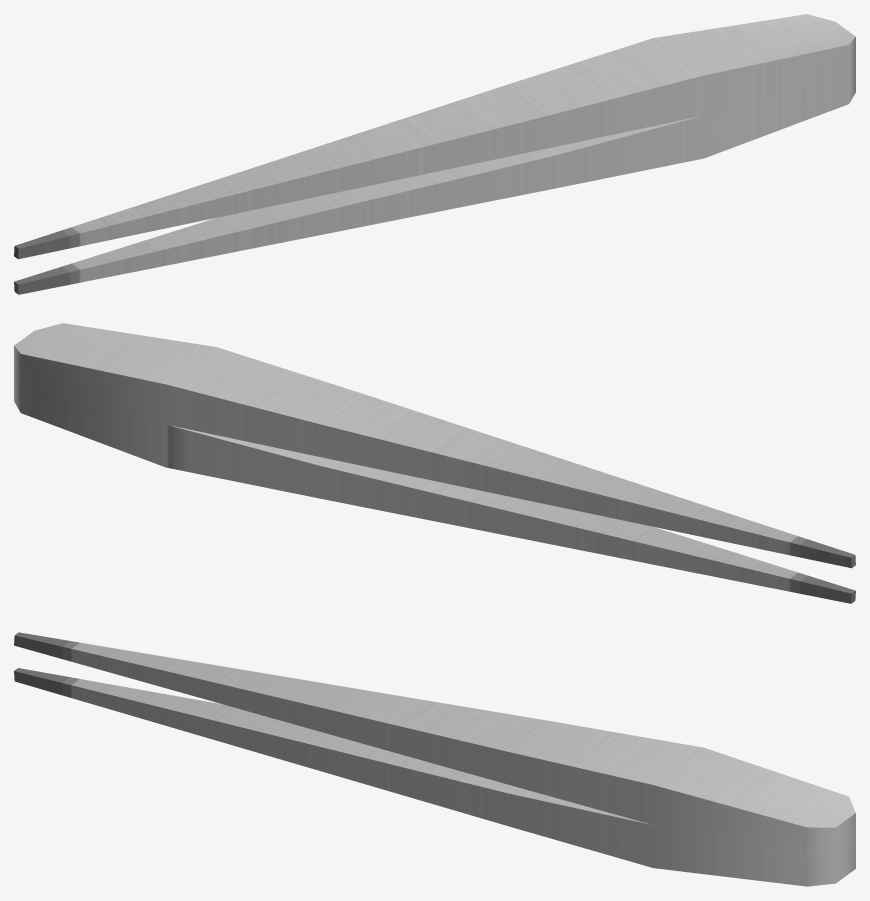
File: tweezers_short.FBX
The picture shows the model from 3 angles, top to bottom: view 1: azimuth 30°, elevation 25°; view 2: azimuth 150°, elevation 25°; view 3: azimuth 330°, elevation 25°; orthographic projection.
Parts seen in each view (by area): view 1: tweezers_Short; view 2: tweezers_Short; view 3: tweezers_Short.
Part boxes in pixels (<box>): tweezers_Short: <box>14,14,855,294</box>; tweezers_Short: <box>14,323,855,603</box>; tweezers_Short: <box>14,632,855,886</box>.
Bounding box in the file's own units: 141 × 13.51 × 15.
Materials: 1 (1 with a texture image).
